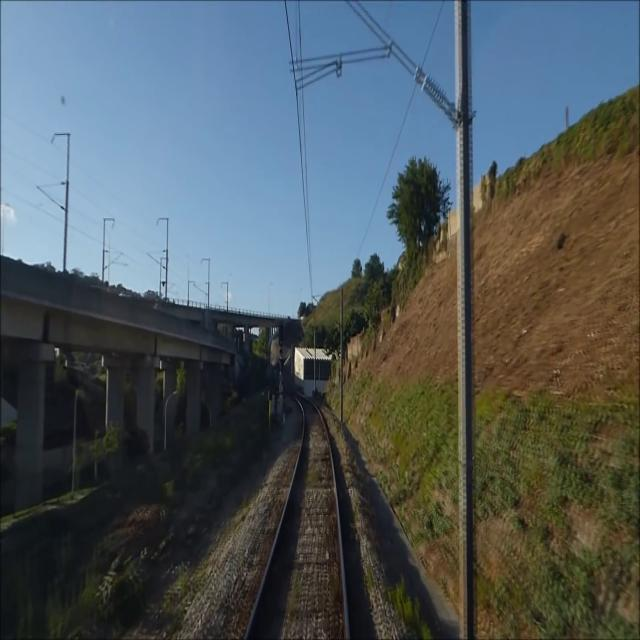rail-track: (248, 399, 344, 639)
